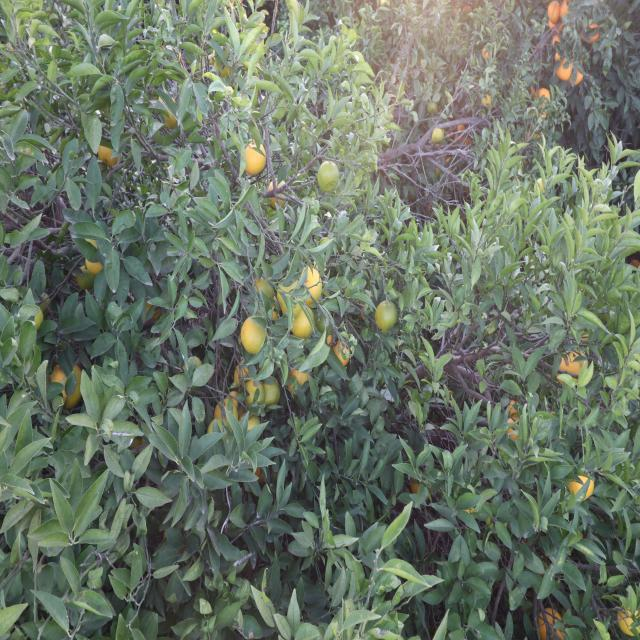Jeruk Belum Matang: (277, 280, 303, 318), (373, 302, 397, 336), (318, 161, 340, 191), (210, 418, 232, 441), (263, 381, 282, 406), (74, 270, 94, 290), (248, 413, 262, 437), (40, 292, 50, 317), (34, 307, 44, 329), (432, 128, 444, 143), (534, 180, 546, 195), (426, 101, 436, 114)
Jeruk Sudah Matang: (50, 366, 83, 406), (242, 322, 266, 354), (290, 312, 312, 342), (243, 378, 264, 408), (244, 148, 265, 174), (217, 394, 236, 422), (334, 341, 352, 367), (563, 356, 585, 376), (546, 605, 564, 628), (304, 268, 321, 292), (618, 610, 635, 634), (96, 144, 114, 166), (580, 24, 600, 43), (254, 276, 271, 298), (289, 368, 308, 386), (568, 477, 586, 495), (83, 260, 102, 276), (540, 616, 552, 640), (582, 477, 598, 495), (558, 64, 574, 81), (548, 0, 560, 22), (508, 402, 520, 423), (560, 0, 572, 21), (164, 115, 178, 132), (548, 20, 564, 34), (408, 481, 424, 494), (463, 504, 477, 518), (574, 70, 586, 84), (556, 628, 570, 640), (253, 467, 264, 482), (538, 86, 552, 97), (507, 428, 518, 442), (481, 94, 493, 106), (530, 86, 542, 97), (552, 34, 561, 48), (482, 48, 492, 59), (554, 51, 563, 63), (540, 110, 548, 119)
